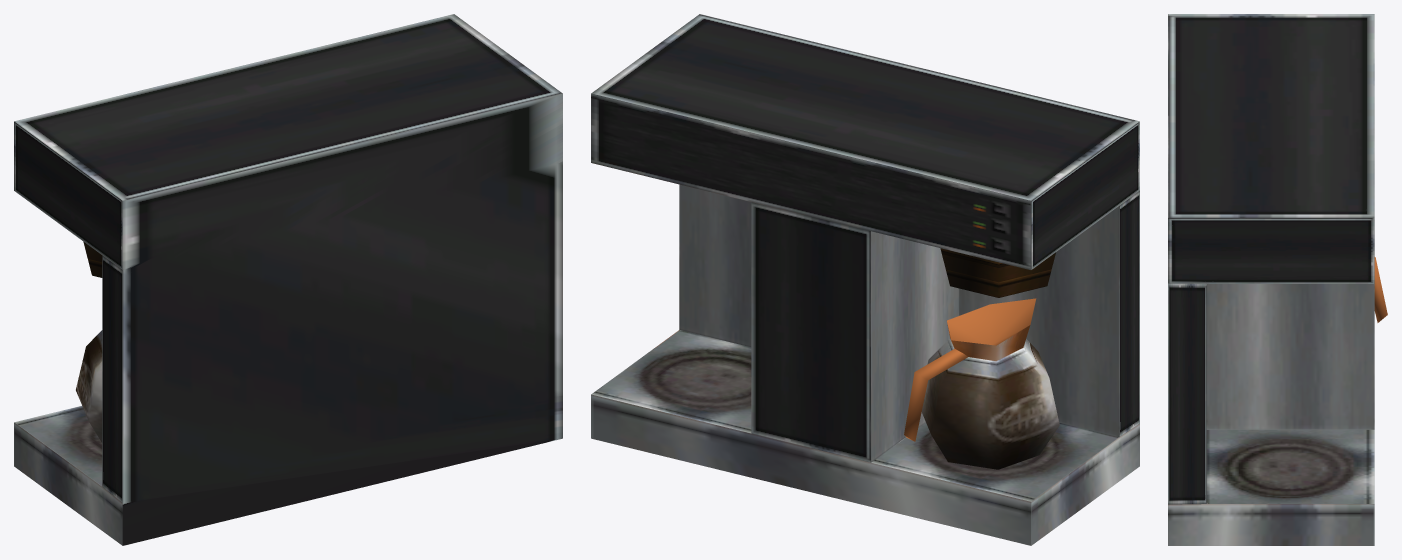
Rendered from coffeemaker.fbx.
The picture shows the model from 3 angles, left to right: view 1: azimuth 30°, elevation 25°; view 2: azimuth 150°, elevation 25°; view 3: azimuth 270°, elevation 25°; orthographic projection. The views are drawn at different scales.
Parts seen in each view (by area): view 1: mesh_0; view 2: mesh_0; view 3: mesh_0.
Boxes of the visible parts, x1,y1,x2,y2 form: mesh_0: [14, 14, 562, 545]; mesh_0: [591, 14, 1139, 545]; mesh_0: [1168, 14, 1387, 545].
Size of the model in its own units: 68.82 by 51.56 by 31.32.
1 material, 1 textured.
